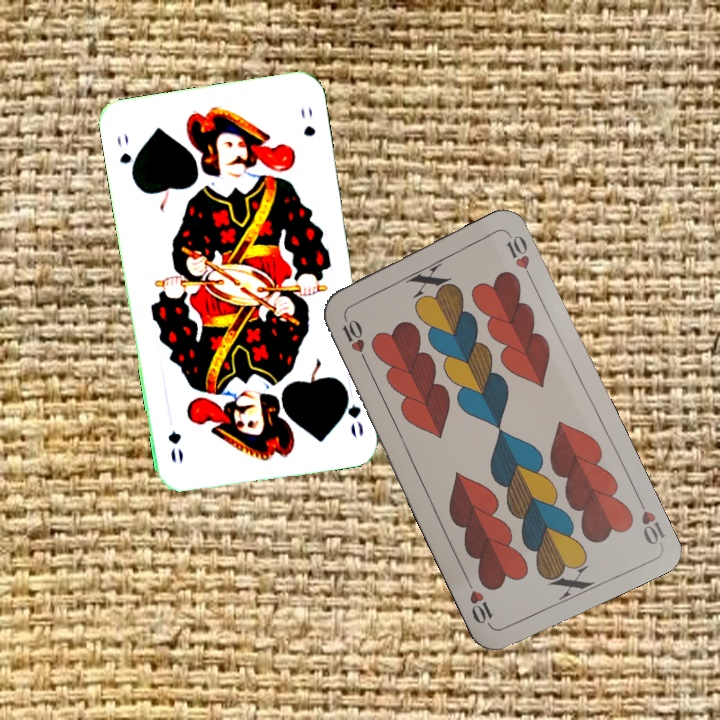GO: (339, 382, 366, 440), (113, 130, 139, 182)
H10: (632, 492, 668, 548), (338, 310, 370, 366)
